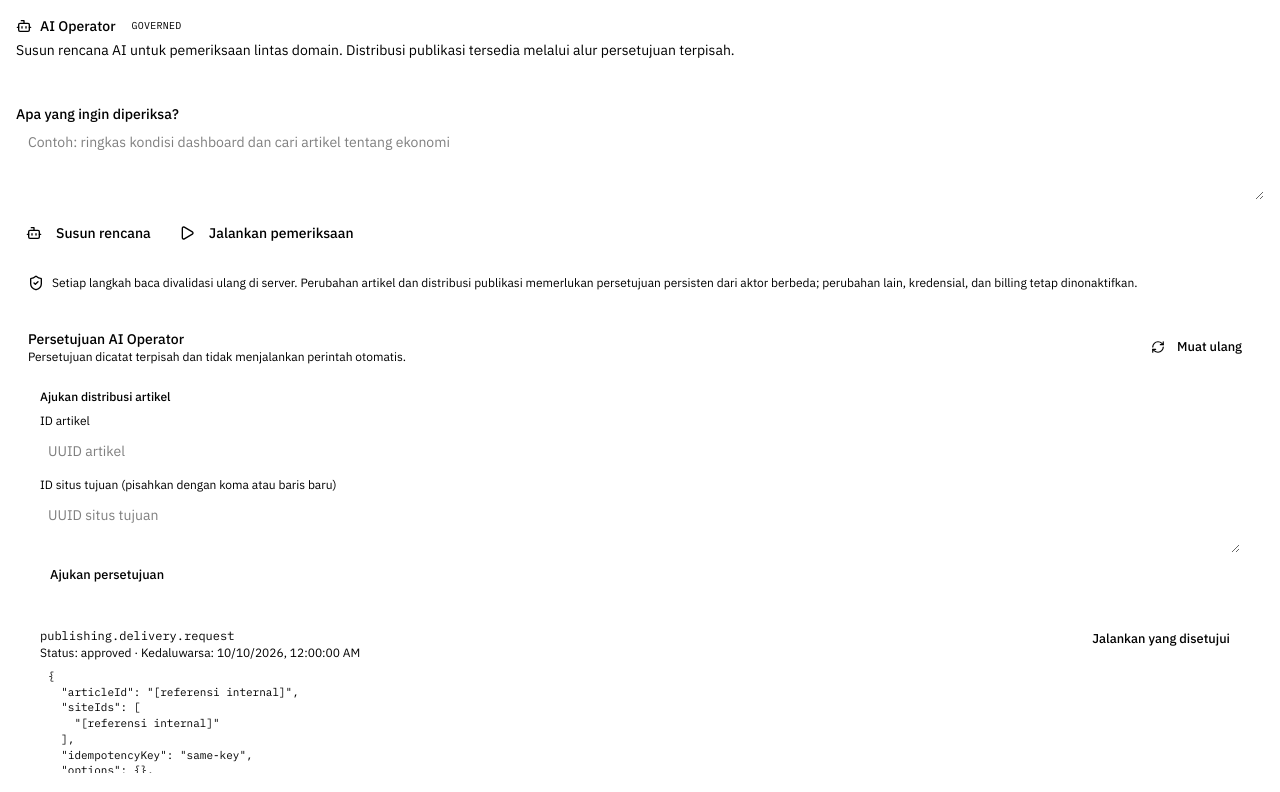
AiOperatorConsole › executes an approved publication only as its requester and refreshes the approval state
The image size is (1280, 792).
Click the button "Jalankan yang disetujui": click(1161, 639) [1082,625,1240,653]
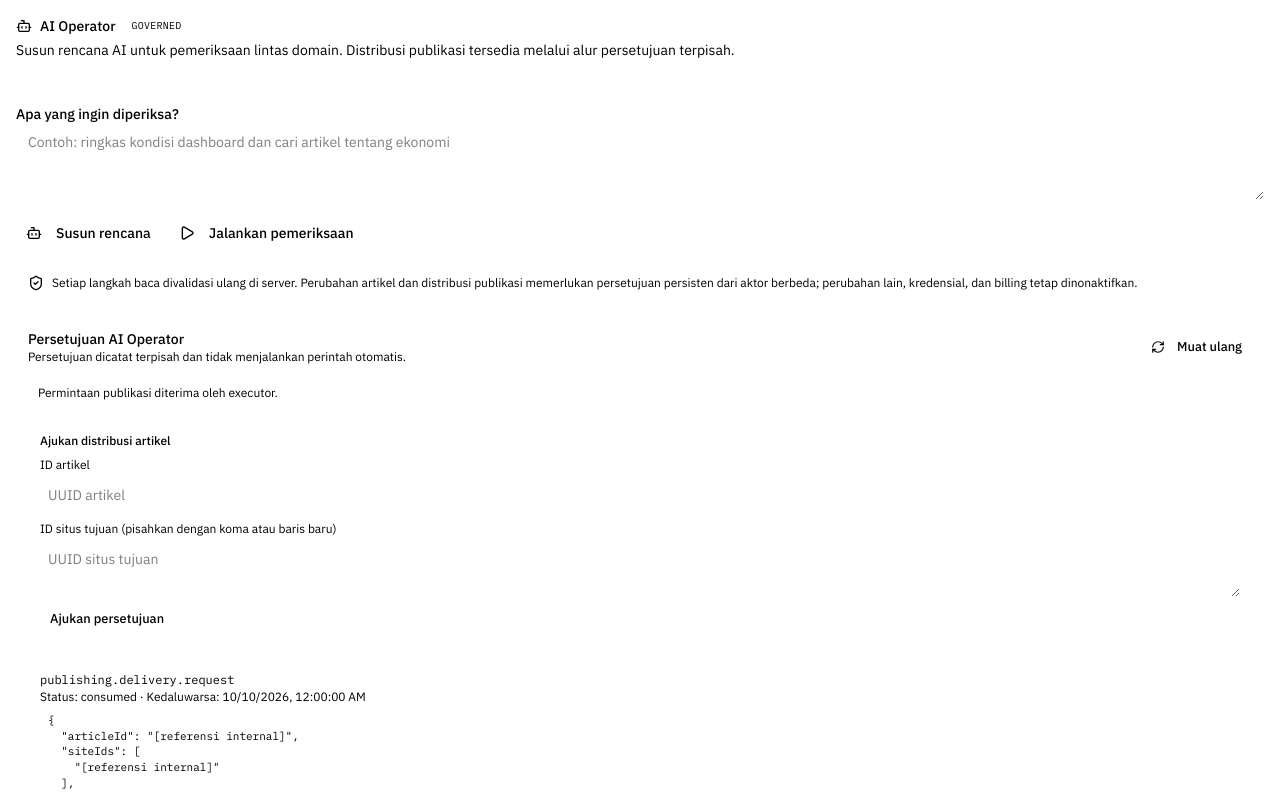
Check: the text "Permintaan publikasi diterima oleh executor." is shown, box [38,385,278,400]
Check: the text "Status: consumed · Kedaluwarsa: 10/10/2026, 12:00:00 AM" is shown, box [40,689,366,705]
